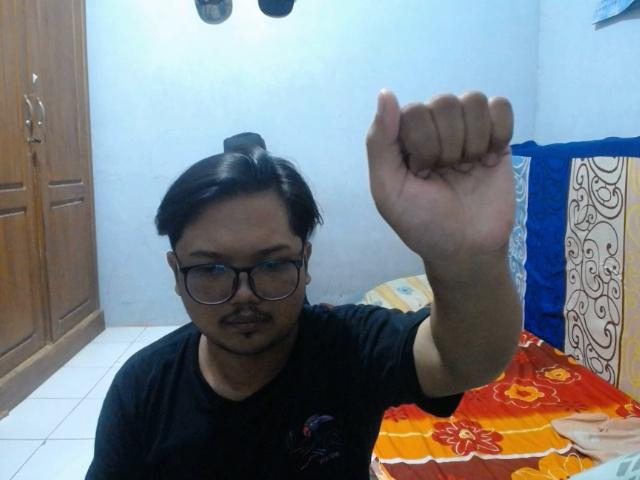Grab: (359, 83, 530, 269)
